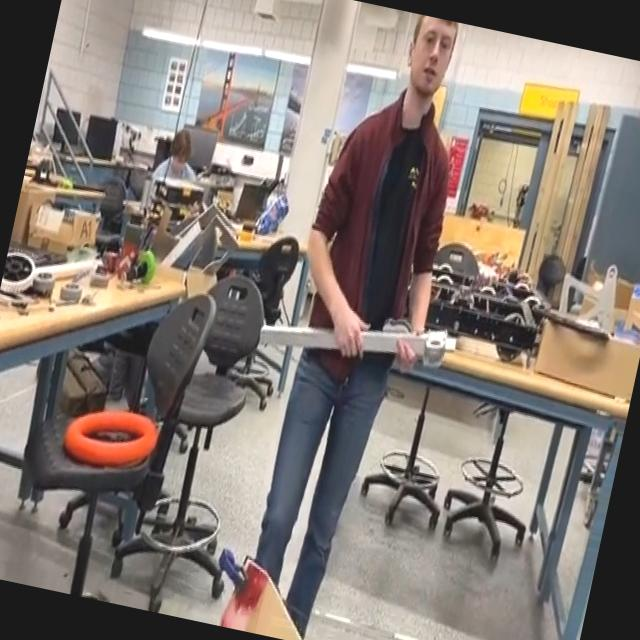note: (56, 393, 166, 483)
